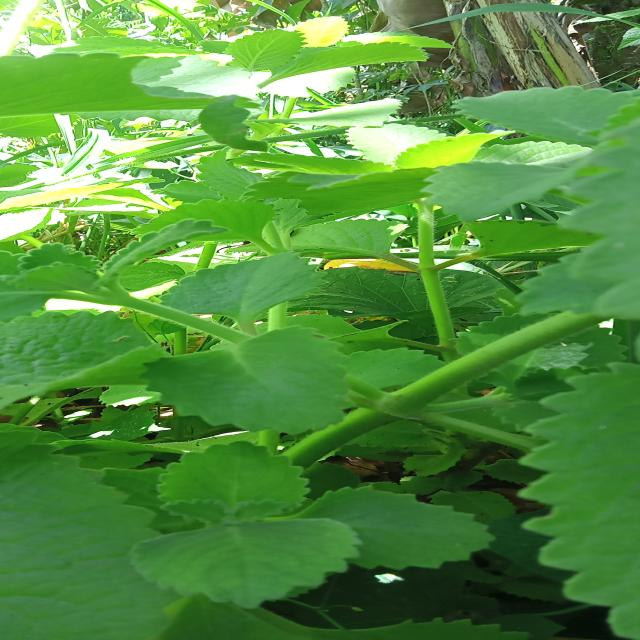Oregano: (0, 226, 640, 420), (111, 438, 527, 634)
